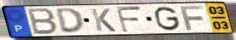B: (27, 7, 60, 36)
D: (54, 7, 86, 35)
F: (114, 6, 144, 34), (178, 5, 206, 31)
G: (154, 5, 183, 32)
K: (90, 8, 118, 33)
